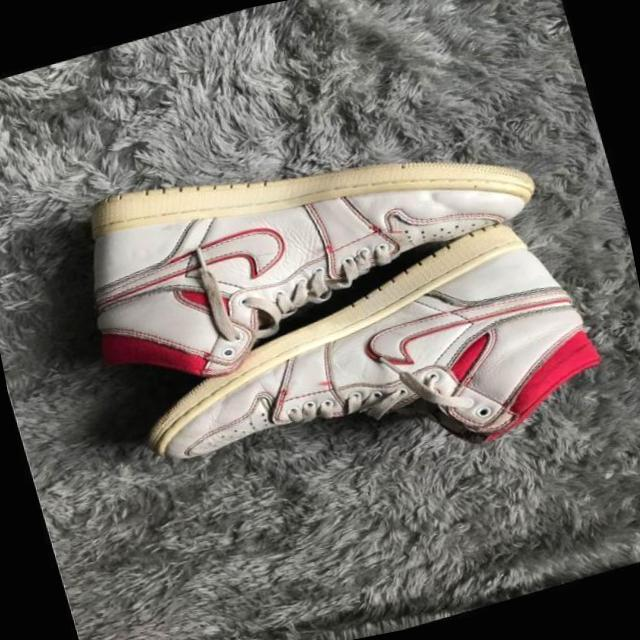nike_original_jordan: (109, 200, 623, 535), (65, 78, 572, 404)
